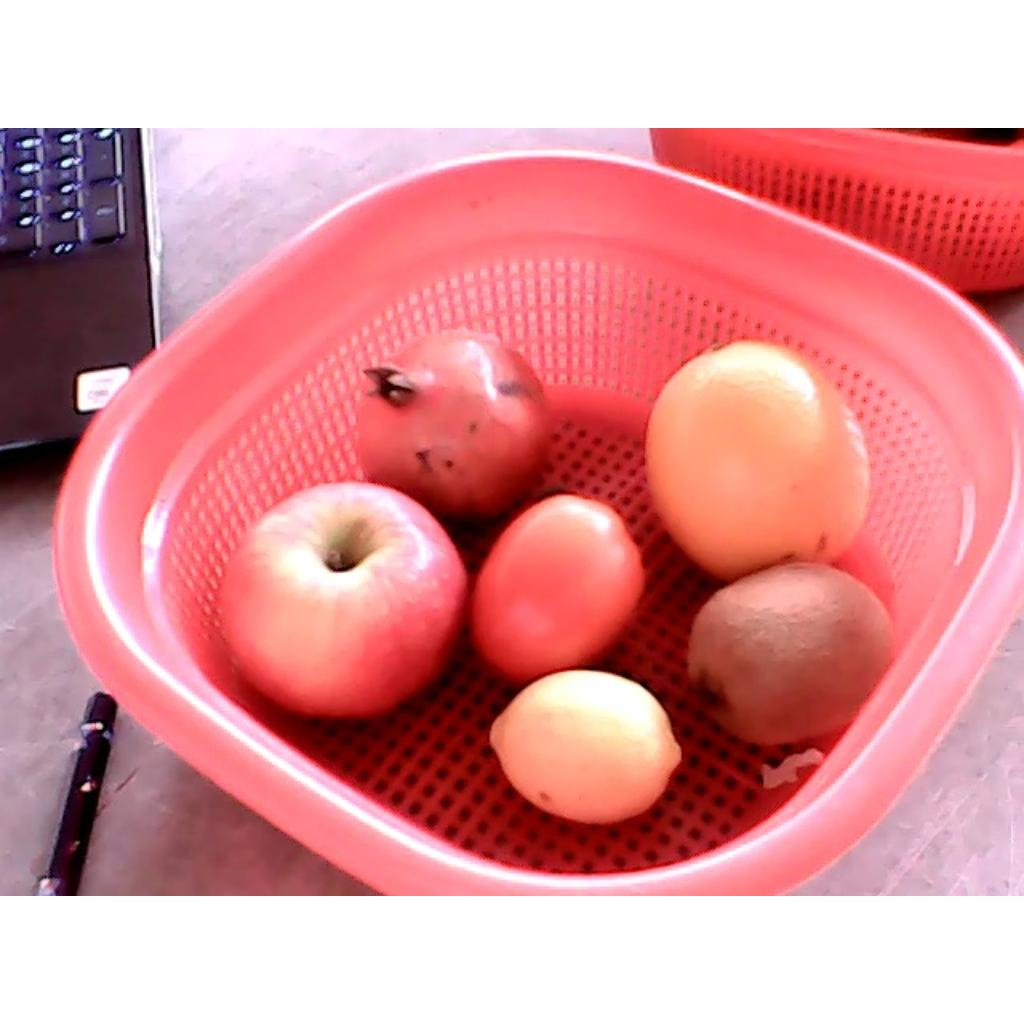apple: (217, 482, 465, 719)
kiwi: (685, 562, 901, 749)
lemon: (485, 667, 684, 825)
orange: (647, 338, 869, 581)
pomegranate: (355, 330, 553, 518)
tomato: (472, 493, 644, 684)
